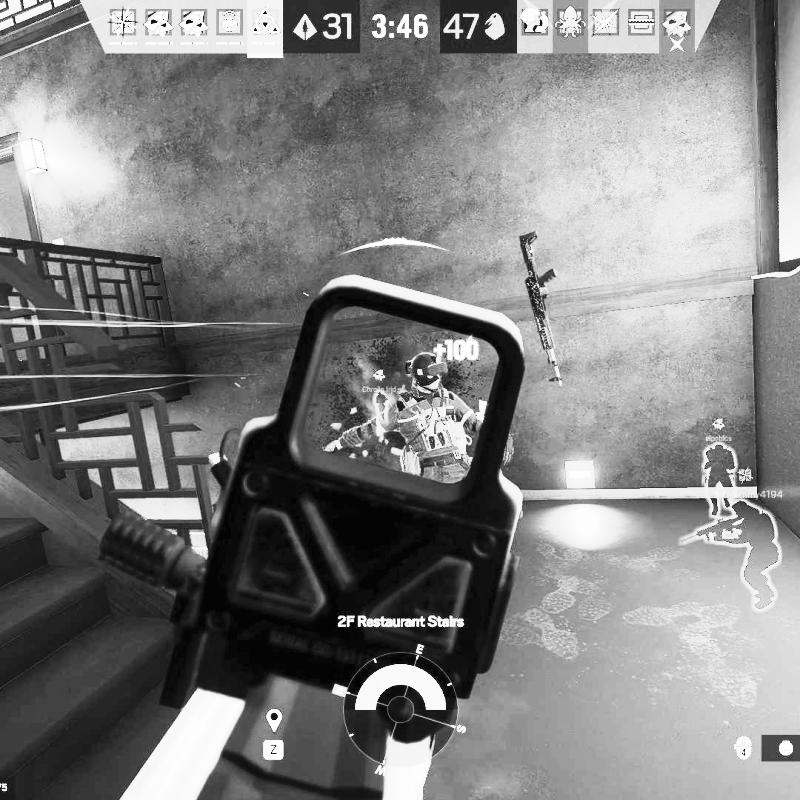Character: (311, 346, 483, 480)
Friend_label: (708, 466, 793, 502), (362, 366, 398, 393), (707, 417, 732, 443)
Head: (410, 350, 448, 398)
